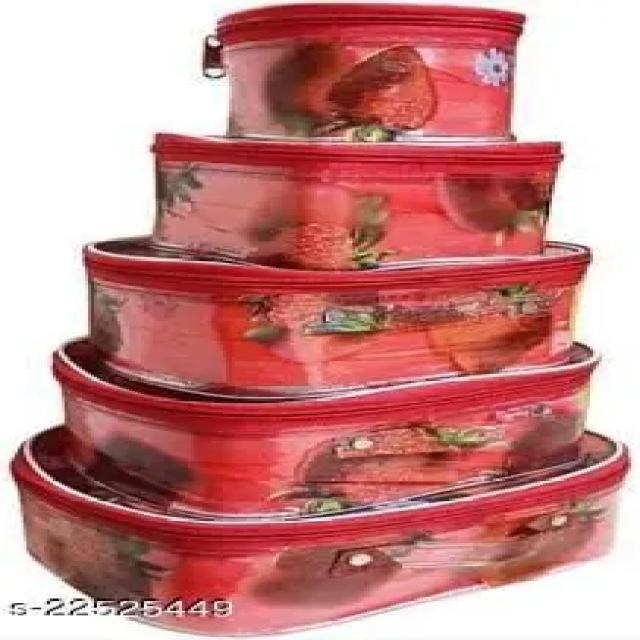plastic_box: (28, 370, 607, 504), (74, 233, 608, 372), (27, 503, 617, 623), (142, 142, 579, 253), (190, 16, 541, 138)
